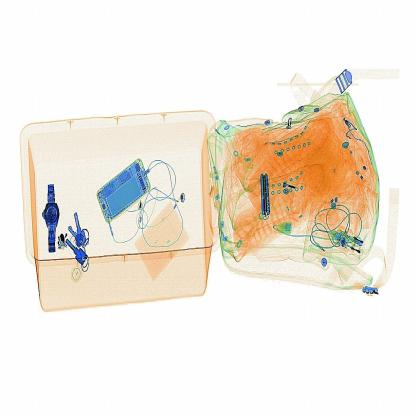scissors: (258, 159, 279, 222)
